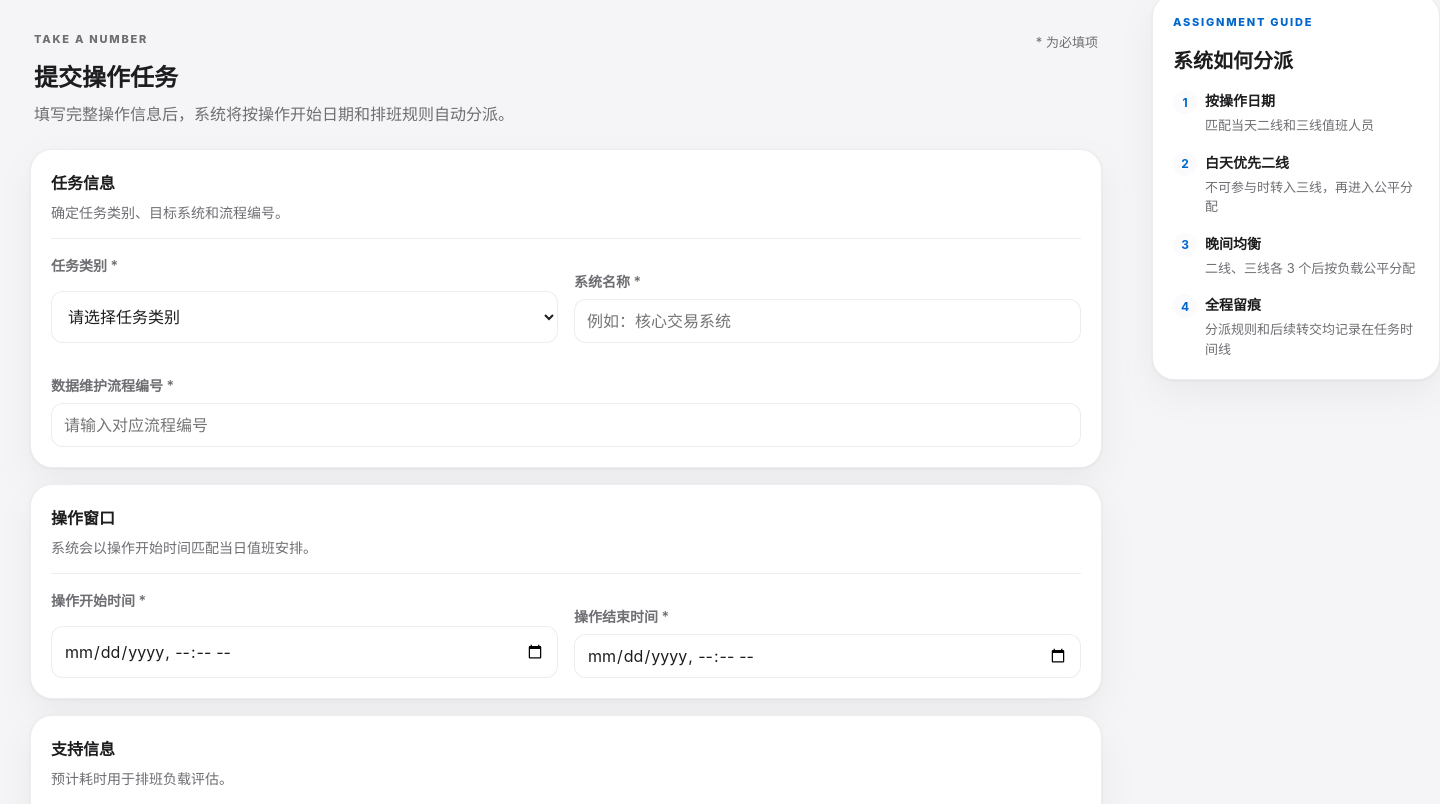
it: TaskCreatePage › rejects an end time that is not after the start time
Select "数据维护" in the dropdown with test id "category" at (304, 317), box top-left (51, 291), bottom-right (558, 343)
Type "数据平台" into the field with test id "system-name".
click(828, 321); type("数据平台")  # box top-left (574, 299), bottom-right (1081, 343)
(page scrolled)
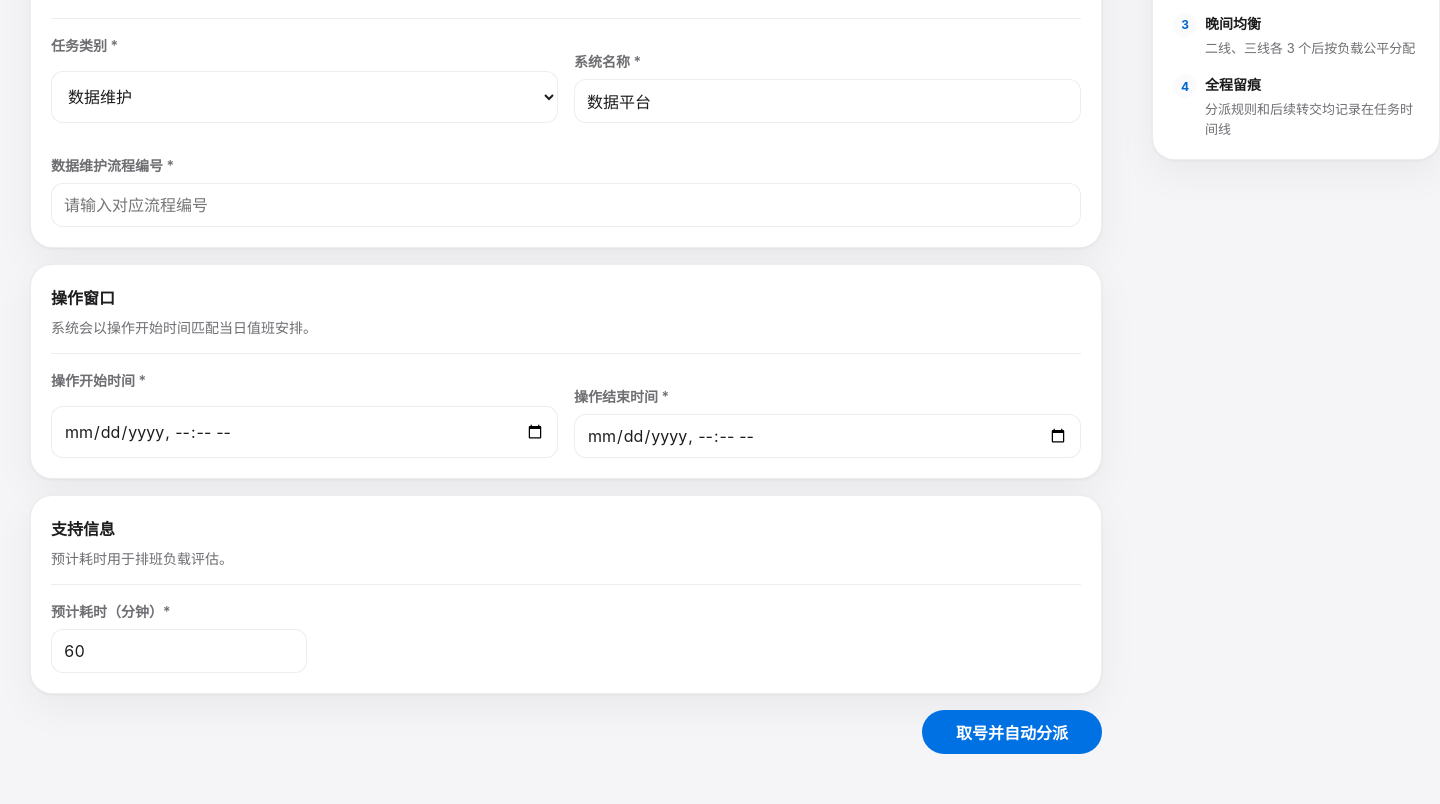
Replace the text in the number field with test id "estimated-minutes" with "45" at (179, 651), box top-left (51, 629), bottom-right (307, 673)
Type "DATA-2026-001" into the field with test id "process-number".
click(566, 205); type("DATA-2026-001")  # box top-left (51, 183), bottom-right (1081, 227)
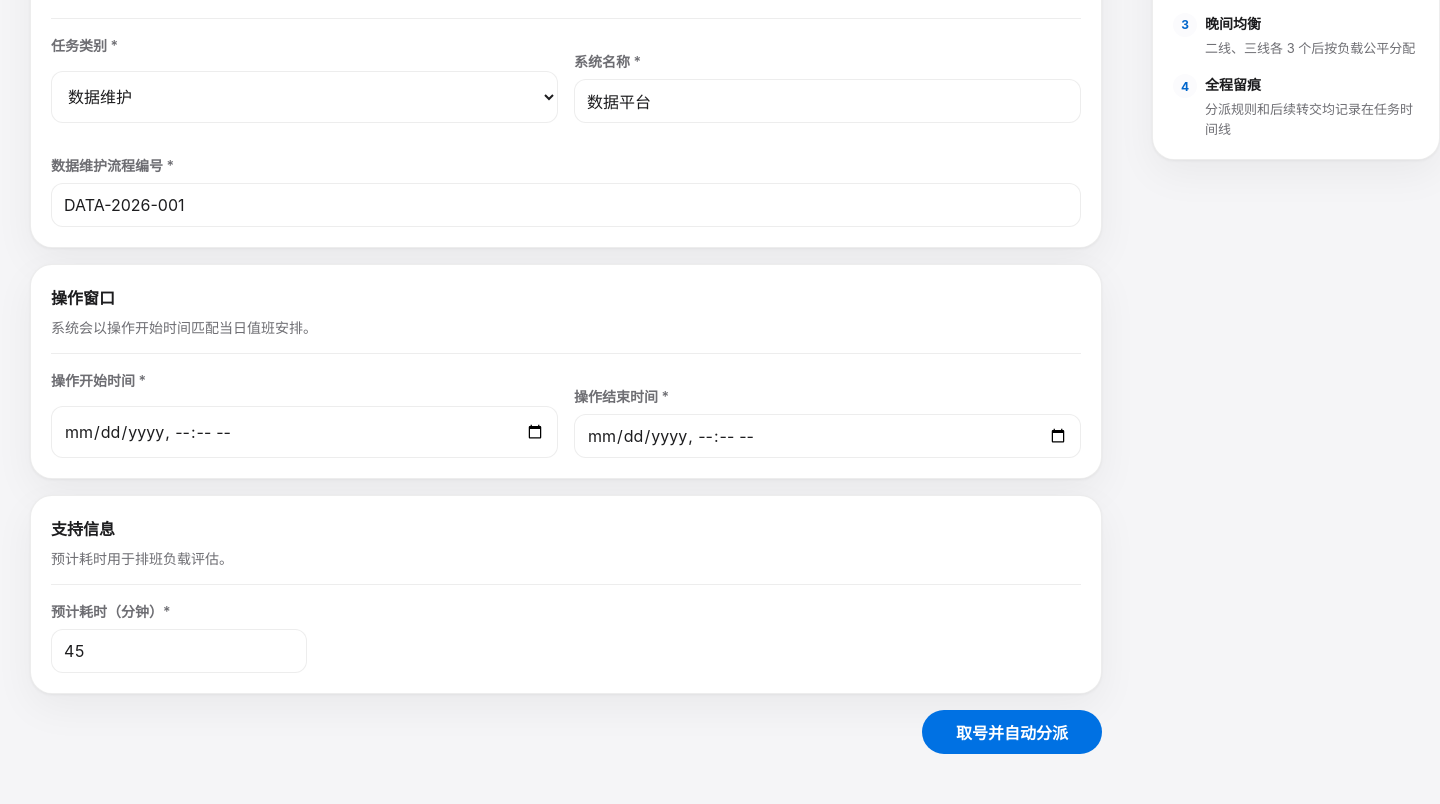
Type "2026-07-25T20:00" into the field with test id "operation-start".
click(304, 432); type("2026-07-25T20:00")  # box top-left (51, 406), bottom-right (558, 458)
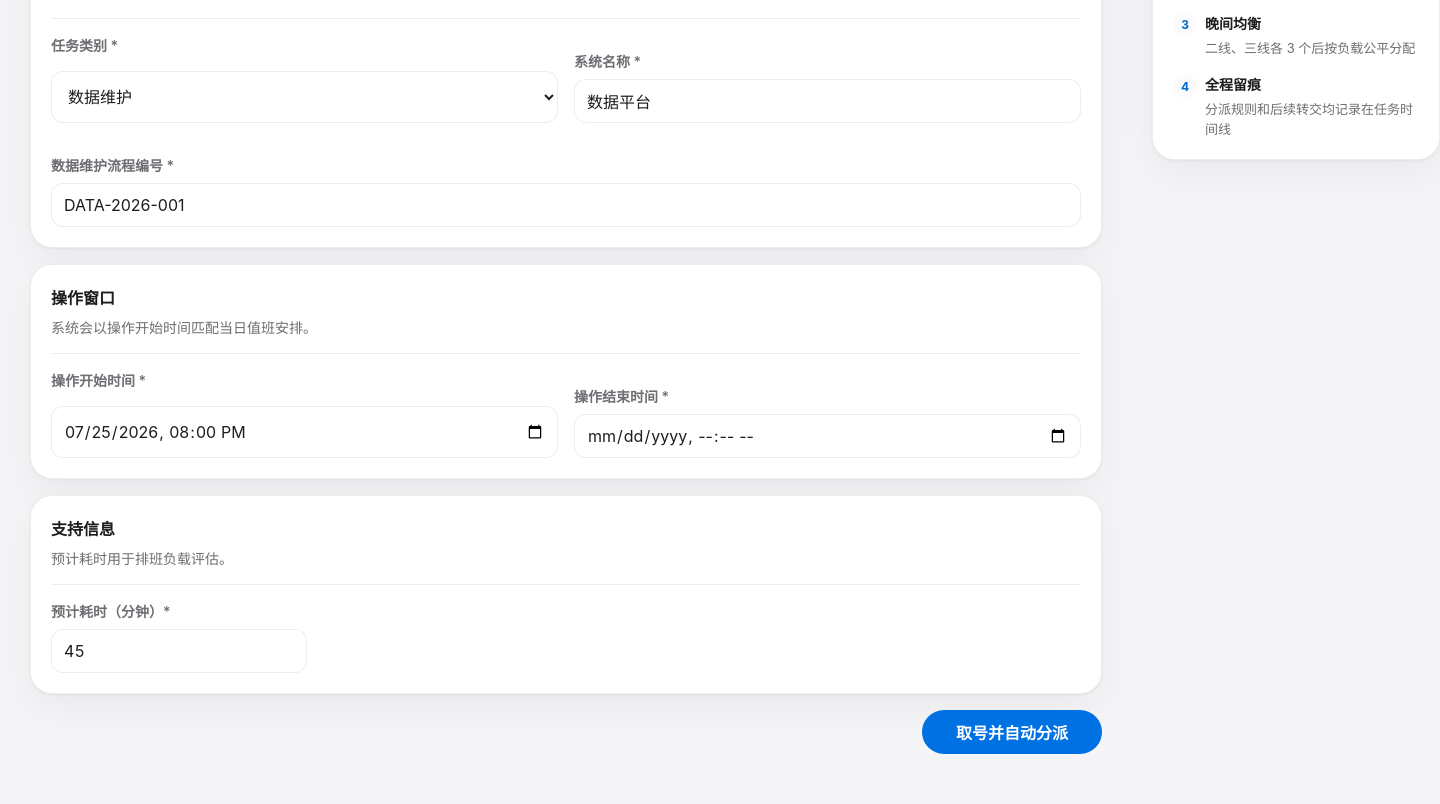
Type "2026-07-25T20:45" into the field with test id "operation-end".
click(828, 436); type("2026-07-25T20:45")  # box top-left (574, 414), bottom-right (1081, 458)
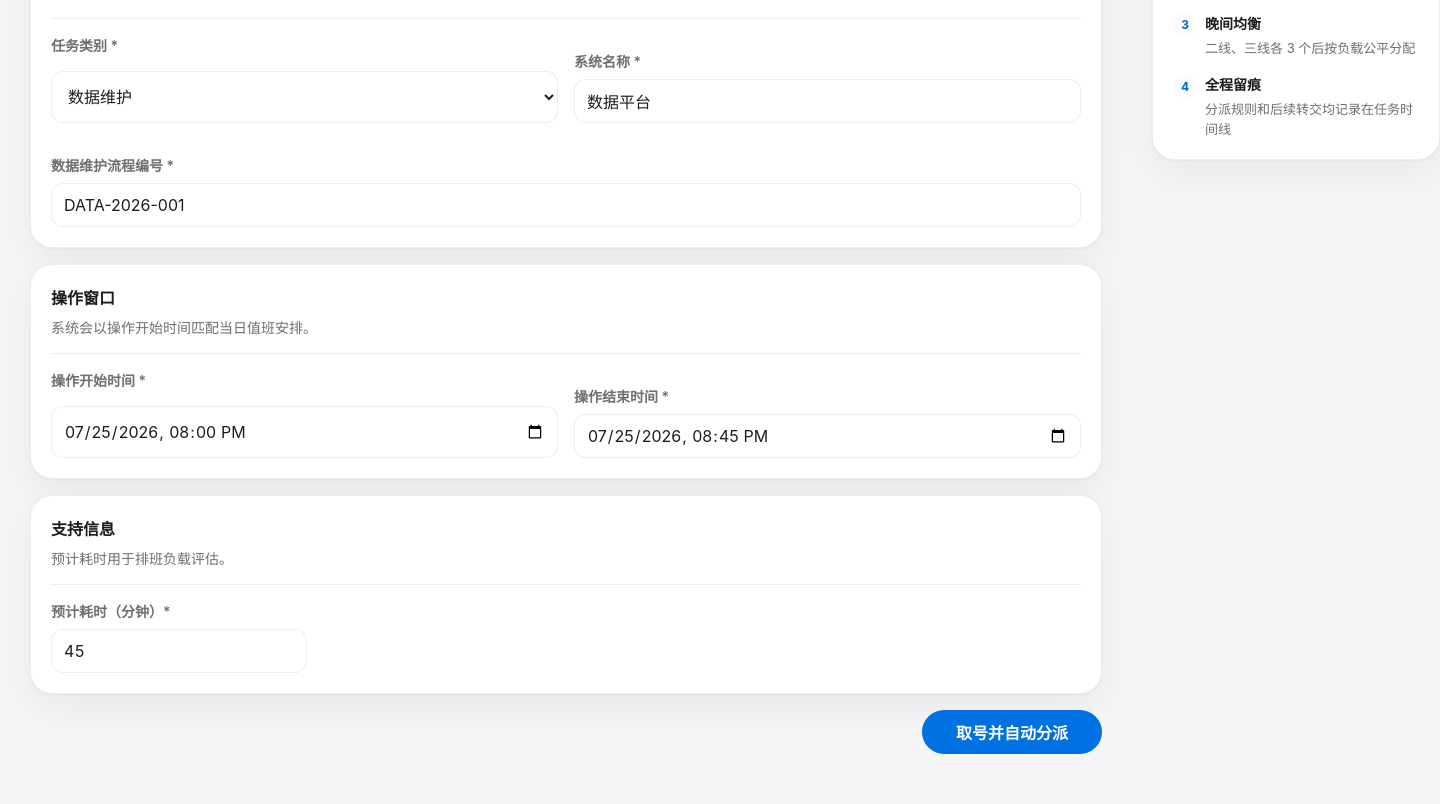
Replace the text in the field with test id "operation-end" with "2026-07-25T19:59" at (828, 436), box top-left (574, 414), bottom-right (1081, 458)
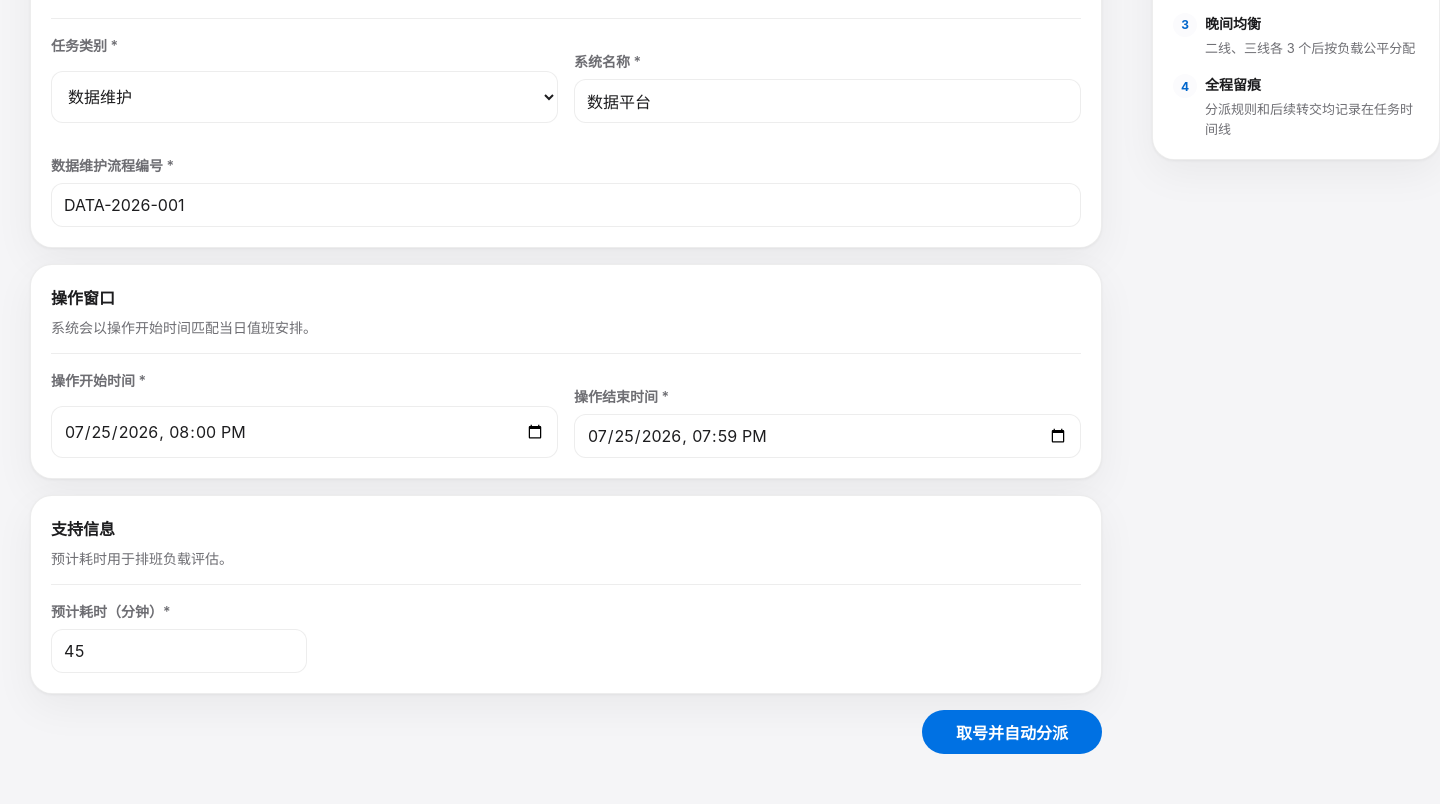
Click the button with test id "submit-task".
click(1012, 732)  # box top-left (922, 710), bottom-right (1102, 754)
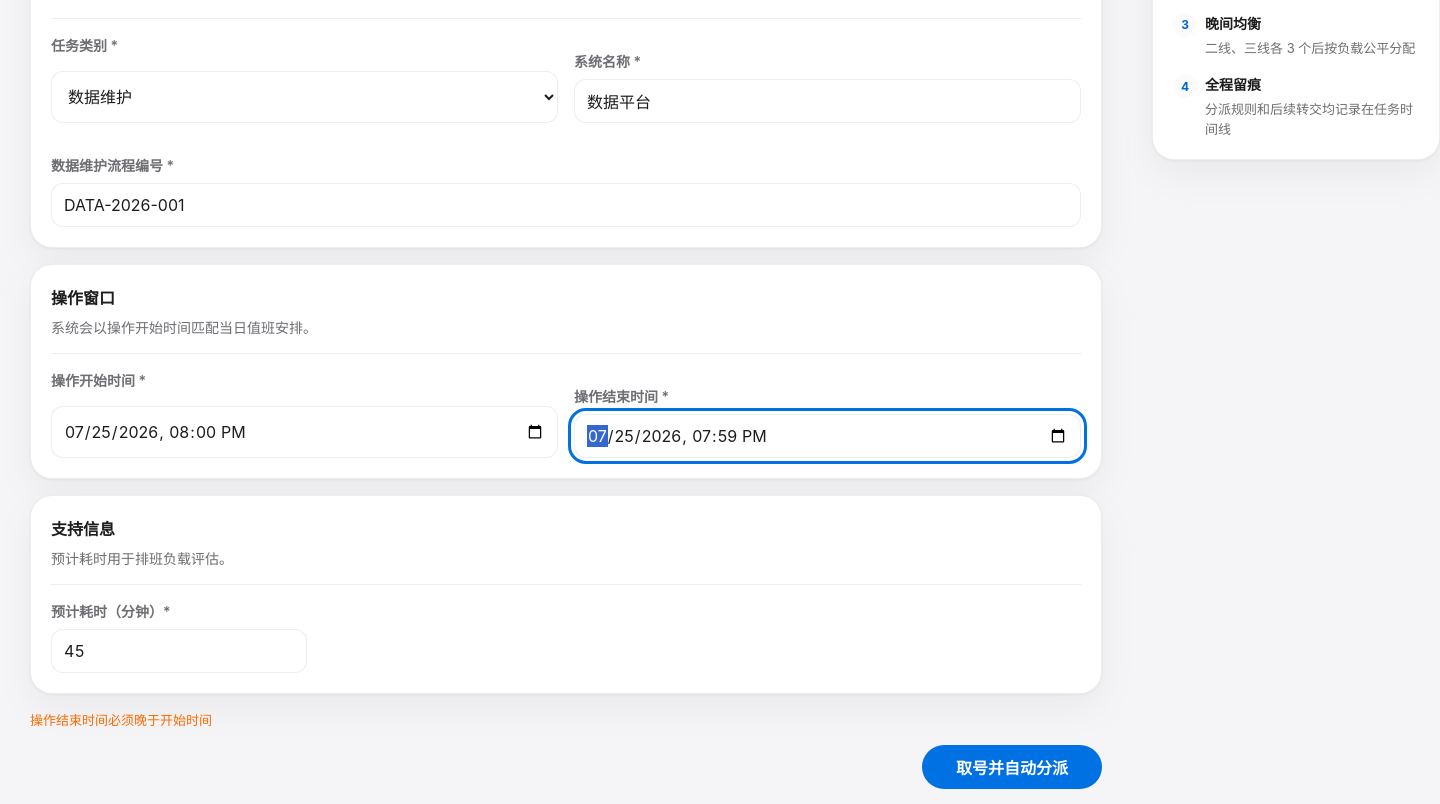
Expected: the text "操作结束时间必须晚于开始时间" is shown, top-left (30, 712), bottom-right (212, 728)
